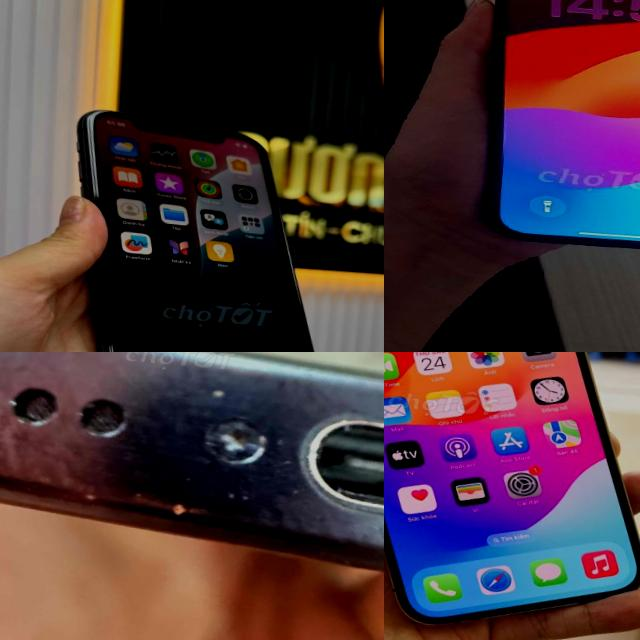gen_11: (49, 97, 361, 352)
gen_12_13: (384, 352, 640, 640)
gen_15: (0, 352, 384, 624)
gen_16: (485, 0, 640, 248)
scratch: (0, 406, 204, 519), (0, 352, 234, 423), (223, 406, 328, 515)
